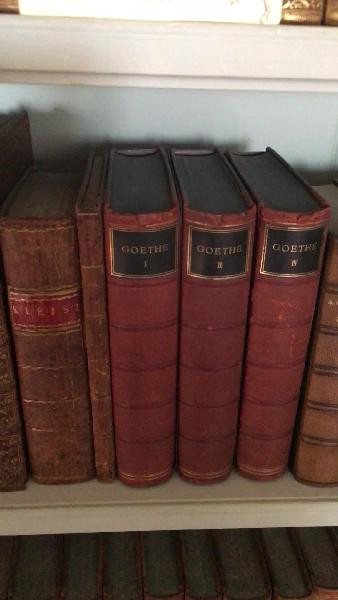Aa6-10: (73, 208, 115, 486)
Aa6-11_13: (101, 207, 320, 482)
Aa6-9: (3, 215, 93, 485)
